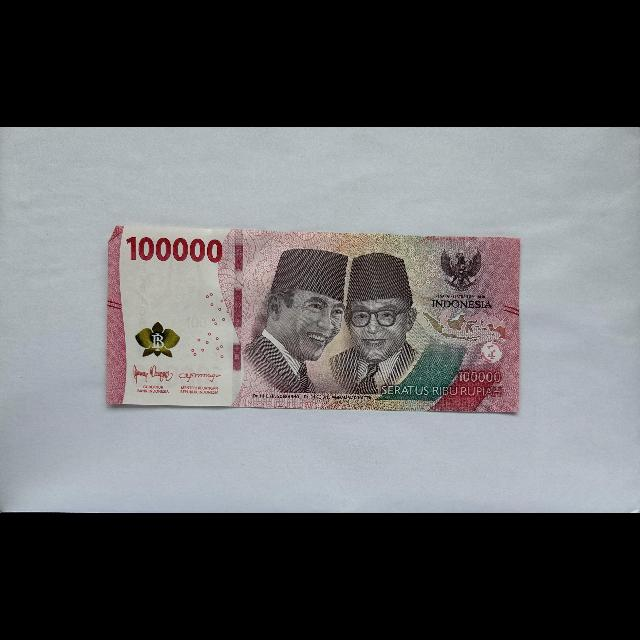Asli-100k: (105, 223, 521, 418)
Tinta-Asli-100k: (134, 320, 181, 359)
